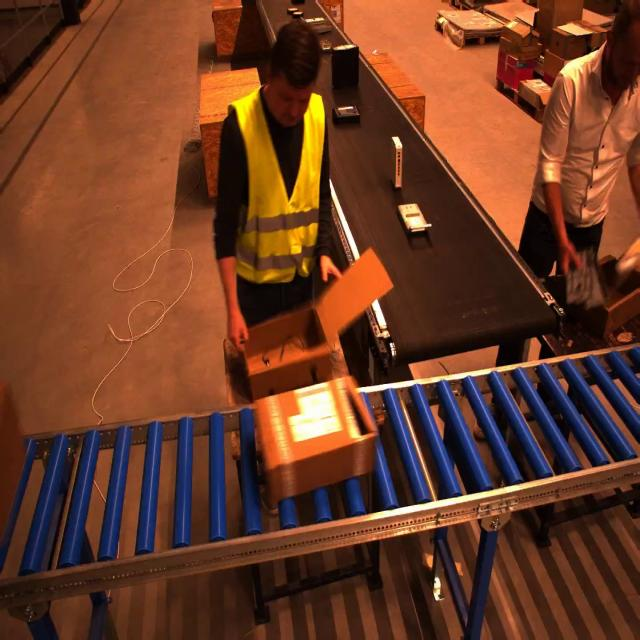box: (251, 385, 379, 486), (233, 310, 338, 397), (0, 380, 36, 560), (567, 255, 640, 332)
product: (562, 252, 611, 311), (329, 43, 361, 90), (397, 203, 433, 238), (389, 133, 403, 186), (331, 107, 361, 123), (303, 16, 326, 26), (314, 39, 334, 50), (310, 25, 333, 33), (293, 10, 304, 20), (288, 7, 299, 14), (290, 0, 308, 4)
